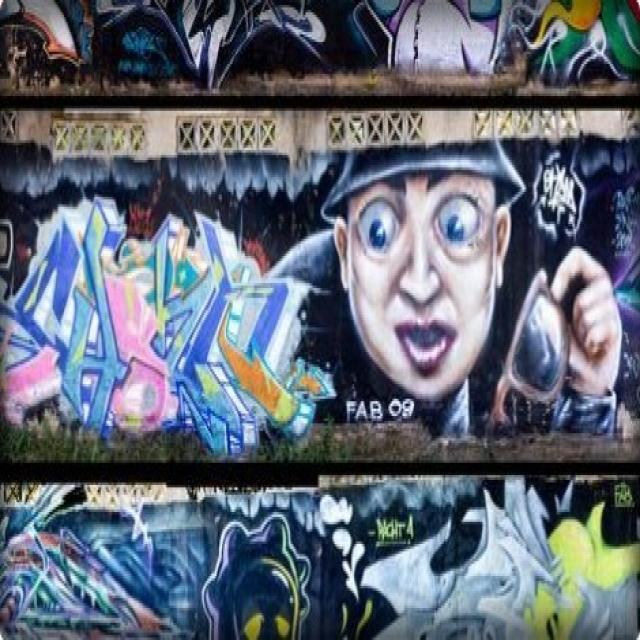-: (2, 142, 640, 454), (0, 490, 640, 640), (0, 0, 640, 82)
